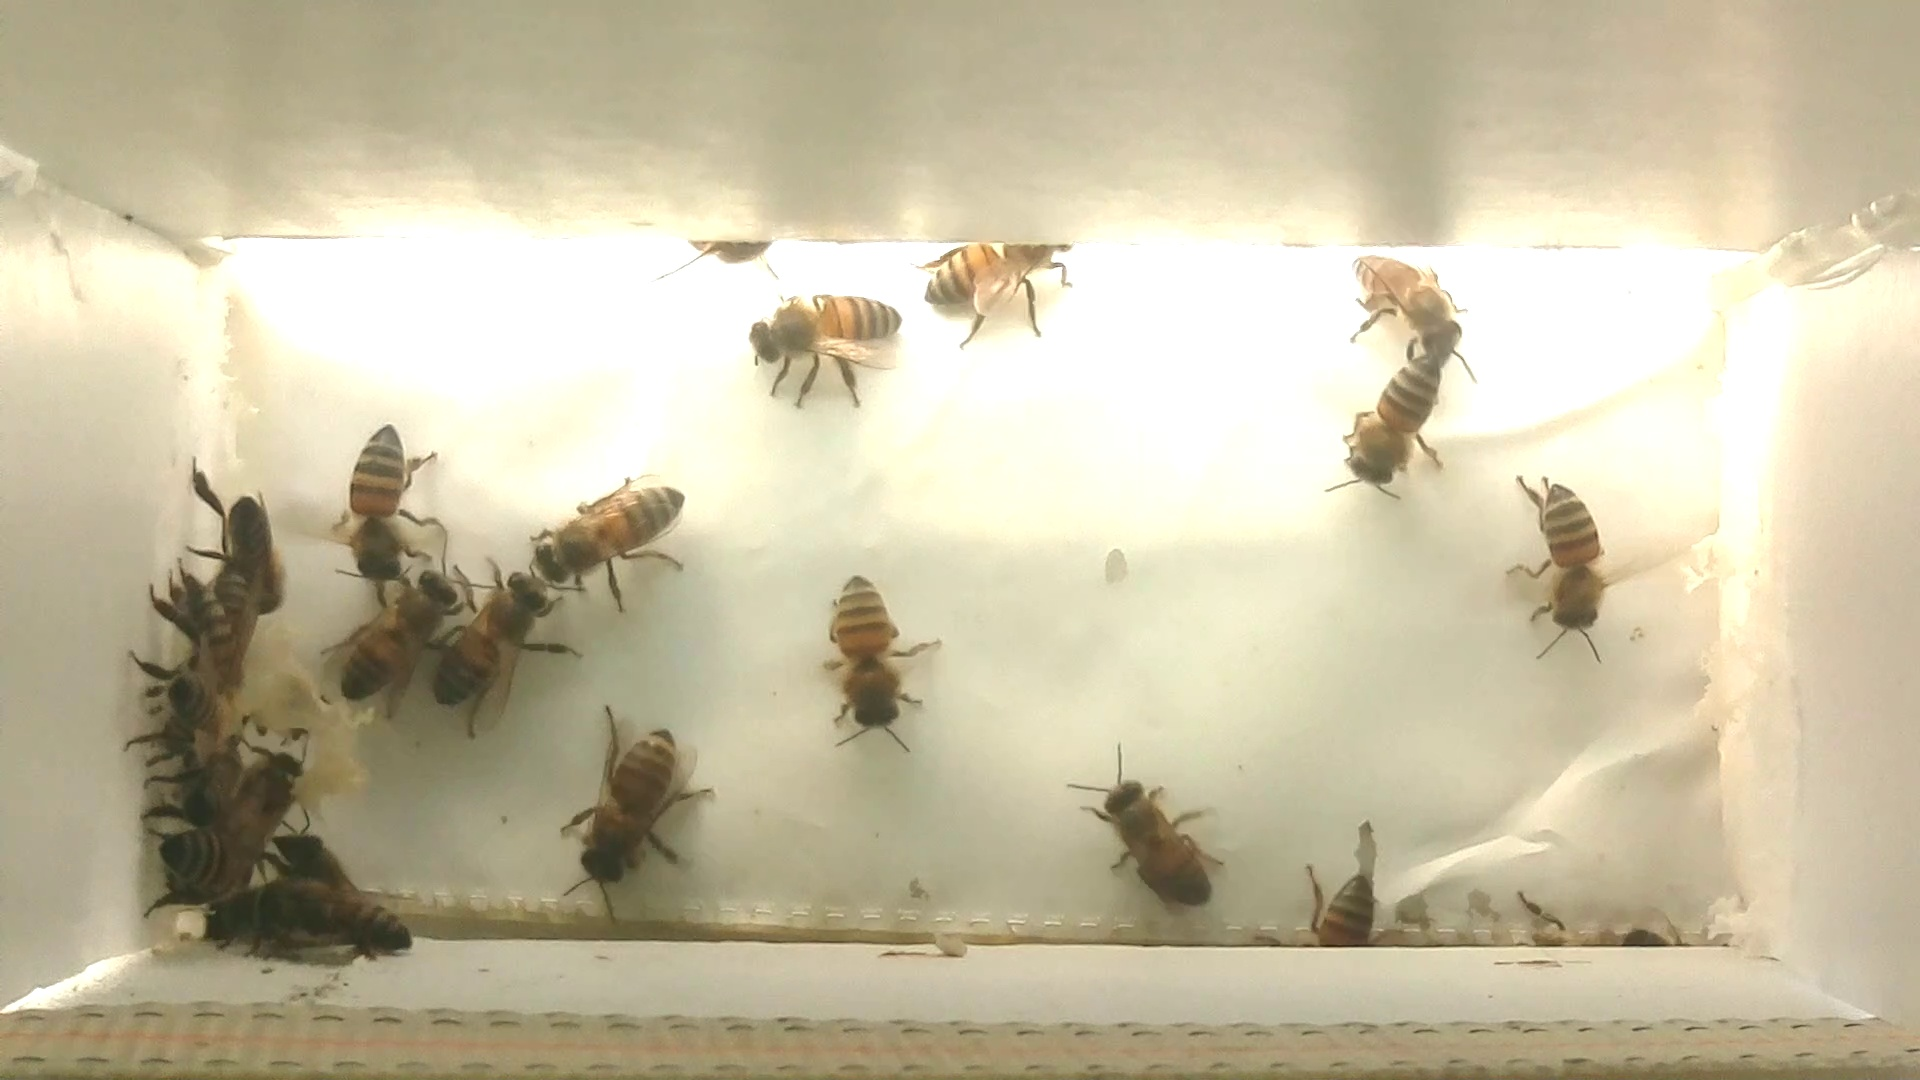bee: (549, 702, 738, 926), (1052, 742, 1237, 924), (414, 560, 599, 742), (719, 264, 919, 423), (521, 465, 717, 628), (791, 559, 938, 766), (1497, 458, 1634, 671), (294, 413, 446, 603), (313, 554, 469, 736), (1313, 334, 1462, 506), (218, 876, 446, 982), (909, 225, 1095, 355), (1332, 241, 1487, 368), (153, 576, 287, 709), (185, 473, 291, 632), (98, 653, 232, 764), (202, 738, 301, 887), (1271, 858, 1393, 968), (138, 810, 237, 926), (127, 738, 232, 828), (661, 229, 791, 286), (272, 829, 363, 906)
